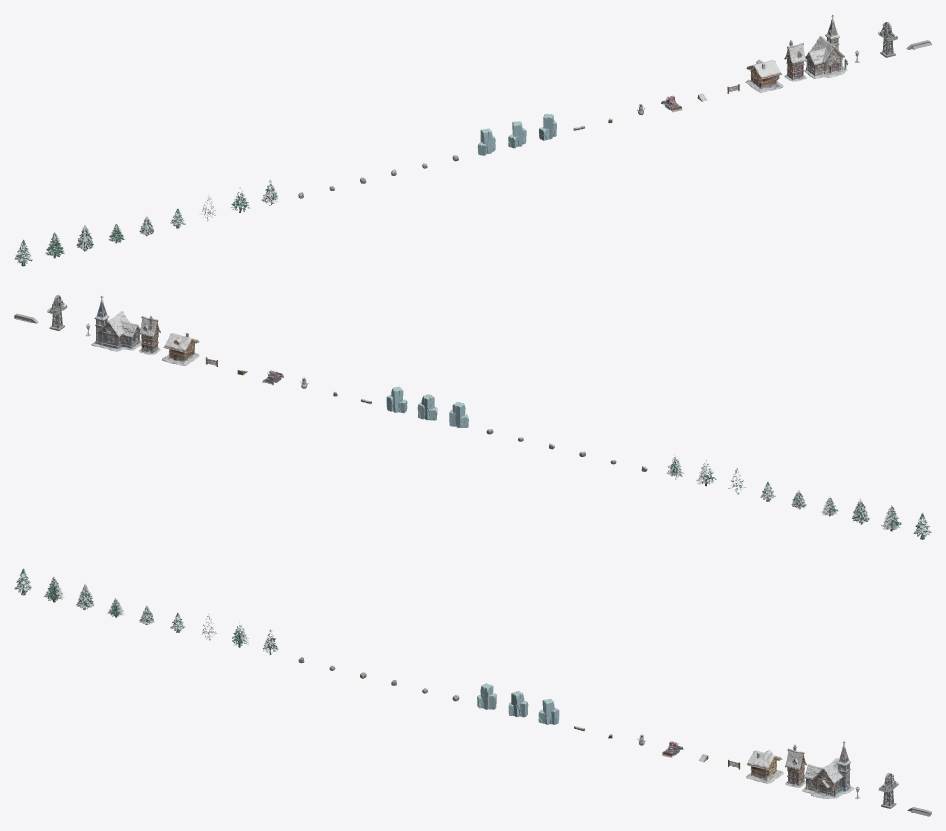
File: obstacles.glb
3 views of the same model, one above another, from view 1: azimuth 30°, elevation 25°; view 2: azimuth 150°, elevation 25°; view 3: azimuth 330°, elevation 25° (orthographic).
Parts seen in each view (by area): view 1: church, hut, chalet; view 2: church, hut, chalet; view 3: church, hut, chalet.
Boxes of the visible parts, box(x1,y1,x2,y2) form: church: box(804, 14, 848, 78); hut: box(745, 59, 783, 92); chalet: box(784, 40, 807, 81); church: box(91, 296, 141, 351); hut: box(162, 332, 199, 365); chalet: box(139, 316, 160, 354); church: box(802, 741, 854, 798); hut: box(746, 750, 783, 783); chalet: box(785, 744, 806, 787).
Bounding box in the file's own units: 237 × 12 × 8.69.
